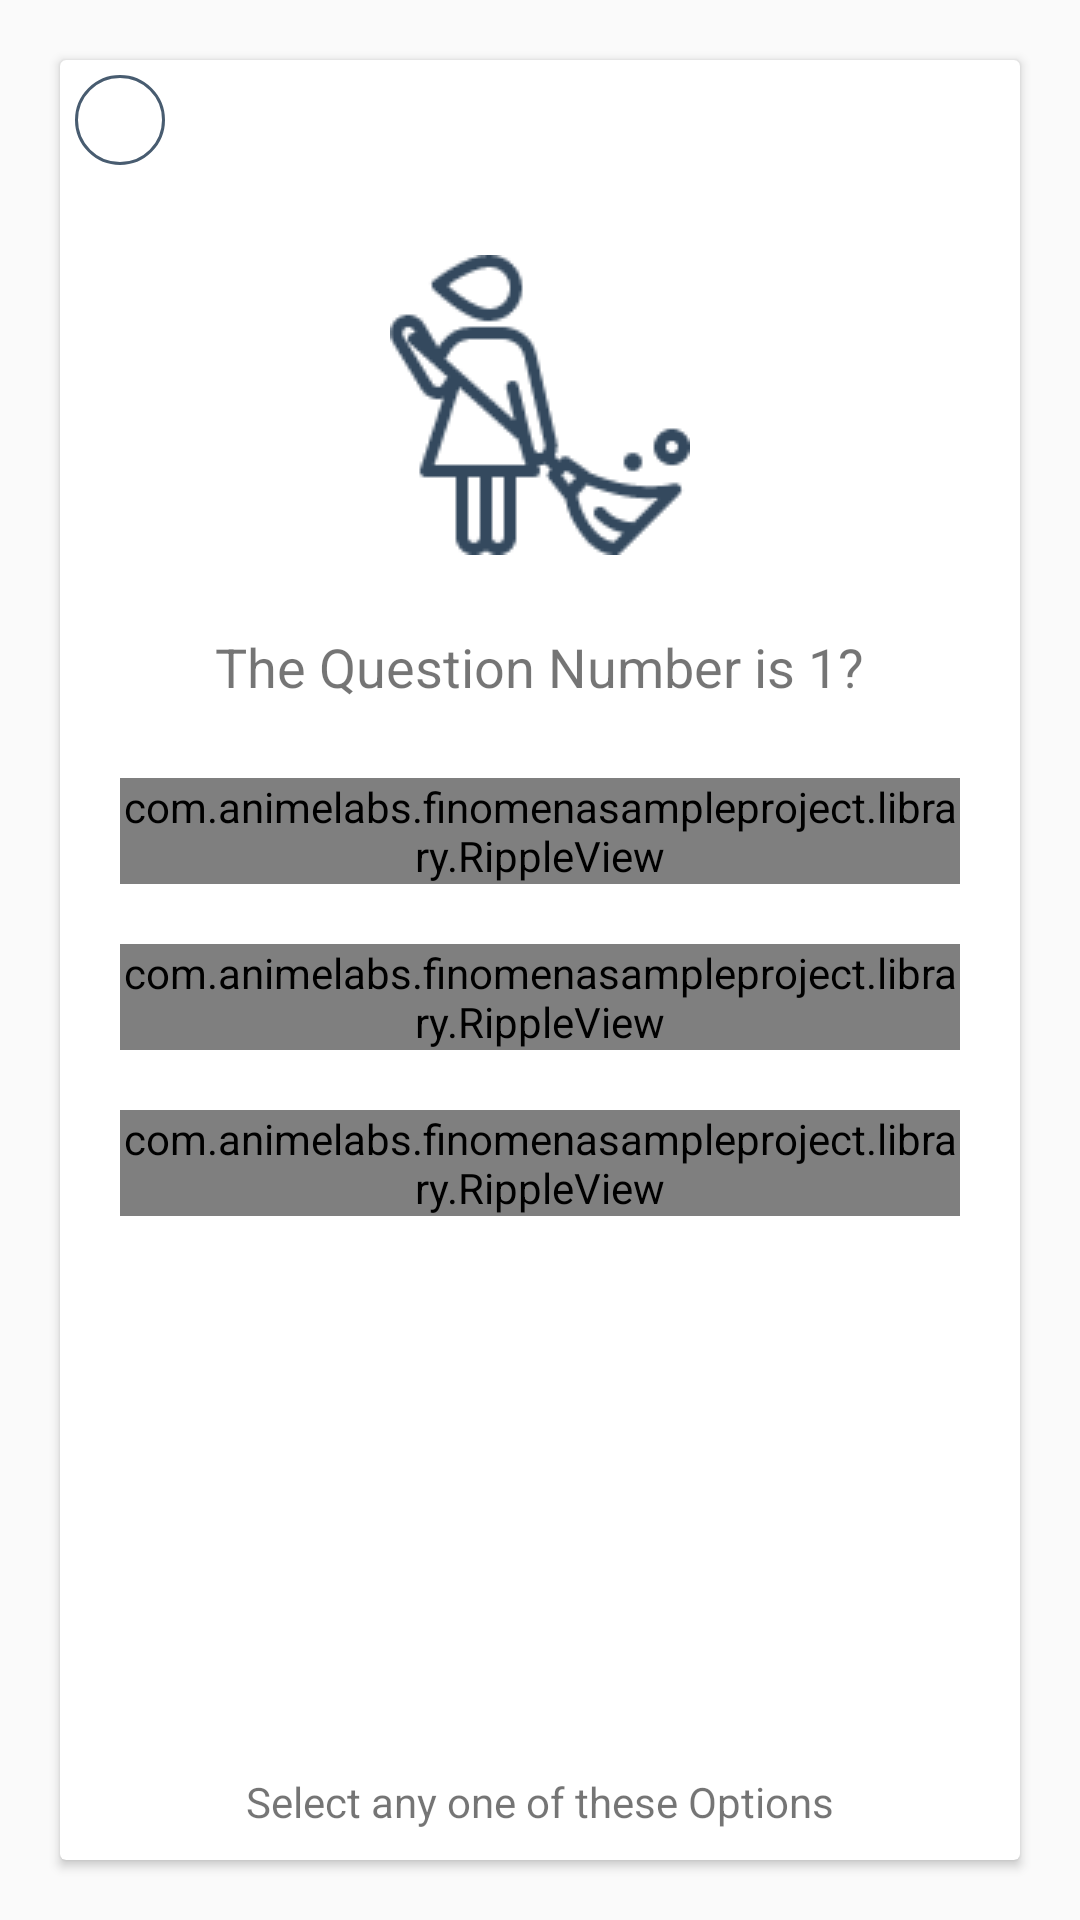

Locate icon controls on the screen. Image size 1080px×1920px, boxes as [x1,y1,x2,y2].
housekeeper: [390,255,690,555]
